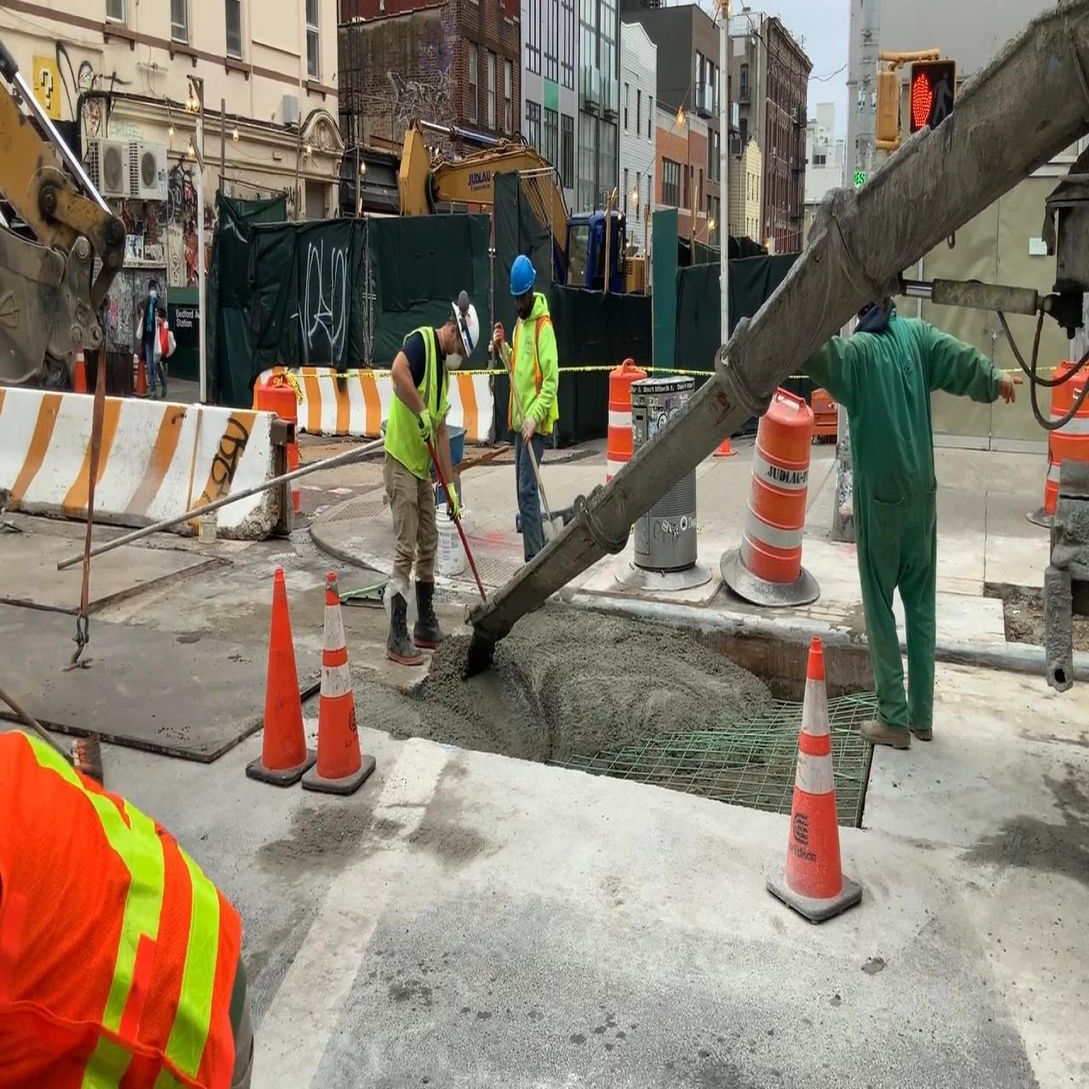NO_Safety_Vest: (850, 328, 938, 519), (144, 299, 162, 347)
Person: (800, 258, 1023, 750), (386, 291, 479, 667), (494, 252, 560, 597), (137, 279, 174, 403)
Safety_Vest: (0, 726, 244, 1088), (387, 315, 451, 479), (505, 311, 560, 433)
